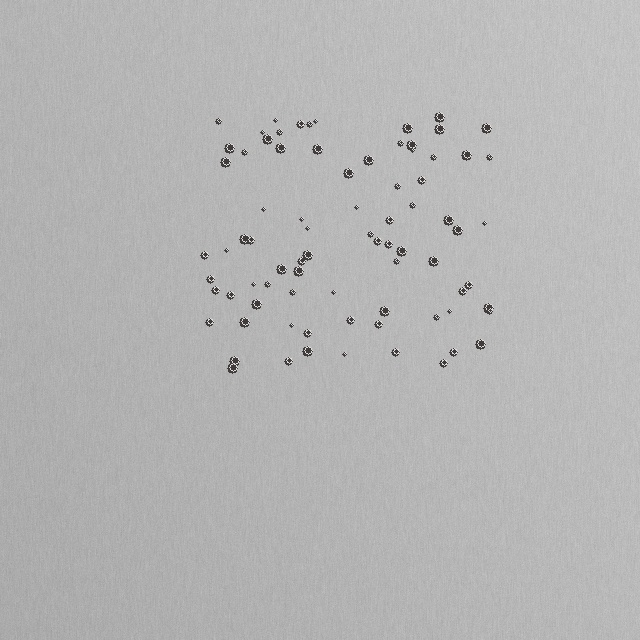pitted_surface: (50, 50, 590, 590)
